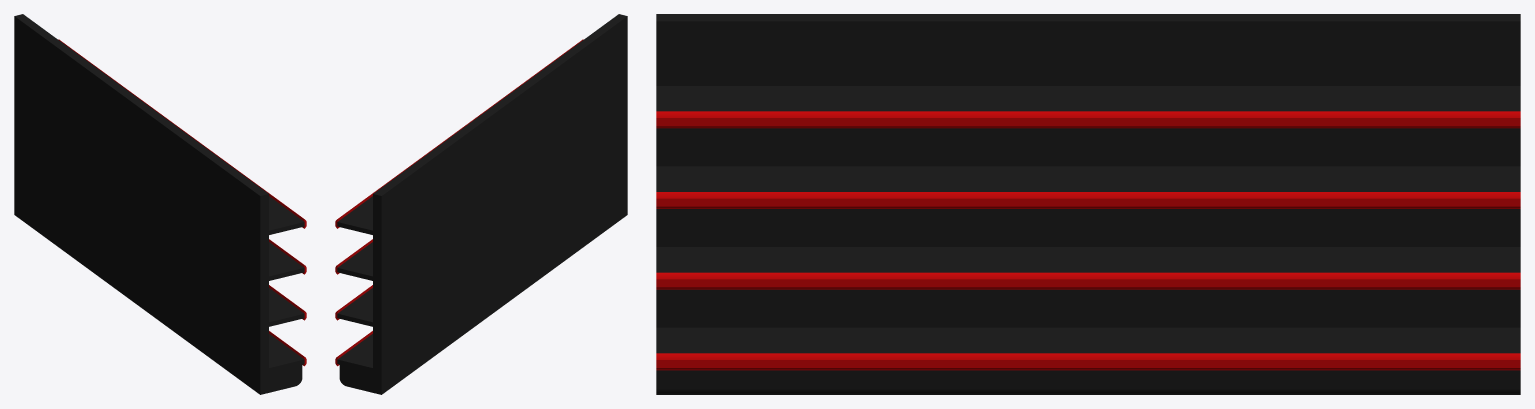
The model's file is Quad shelf Raft.fbx.
3 renders of one model, left to right at view 1: azimuth 30°, elevation 25°; view 2: azimuth 150°, elevation 25°; view 3: azimuth 270°, elevation 25°, orthographic. The views are drawn at different scales.
Parts seen in each view (by area): view 1: Shelf_2; view 2: Shelf_2; view 3: Shelf_2.
Boxes of the visible parts, x1,y1,x2,y2 form: Shelf_2: (14,14,306,394); Shelf_2: (335,14,627,394); Shelf_2: (656,14,1520,394).
Bounding box in the file's own units: 122 × 500 × 1120.
